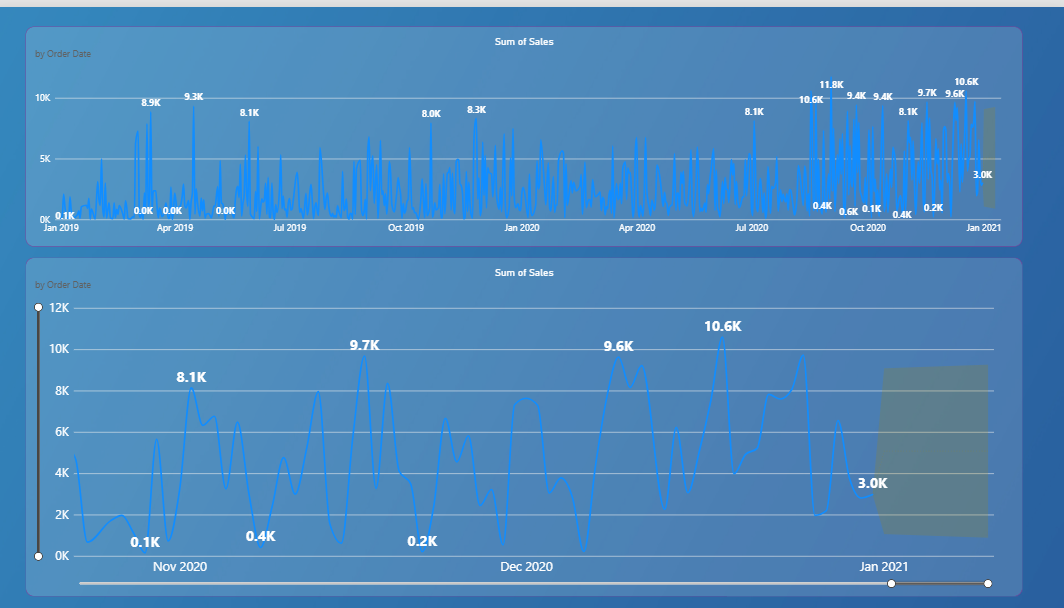

Layout of this report page (visuals, bound fields, positions):
{"tool":"powerbi","page":{"name":"Page 2","canvas":[1920,1080],"ordinal":1},"visuals":[{"type":"lineChart","fields":{"Category":["SuperStore_Sales_Dataset (2).Order Date"],"Y":["Sum(SuperStore_Sales_Dataset (2).Sales)"]},"box":[60,35,1780,392.5],"z":0},{"type":"lineChart","fields":{"Category":["SuperStore_Sales_Dataset (2).Order Date"],"Y":["Sum(SuperStore_Sales_Dataset (2).Sales)"]},"box":[60,447.5,1780,605],"z":1000}]}

Visuals, with their boxes in screenshot pixels (x1, y1, x2, y2), scaled from the page's 1920x1080 canvas onto the 1064x608 screenshot:
lineChart - SuperStore_Sales_Dataset (2).Order Date x Sum(SuperStore_Sales_Dataset (2).Sales): left=33, top=20, right=1020, bottom=241
lineChart - SuperStore_Sales_Dataset (2).Order Date x Sum(SuperStore_Sales_Dataset (2).Sales): left=33, top=252, right=1020, bottom=593
